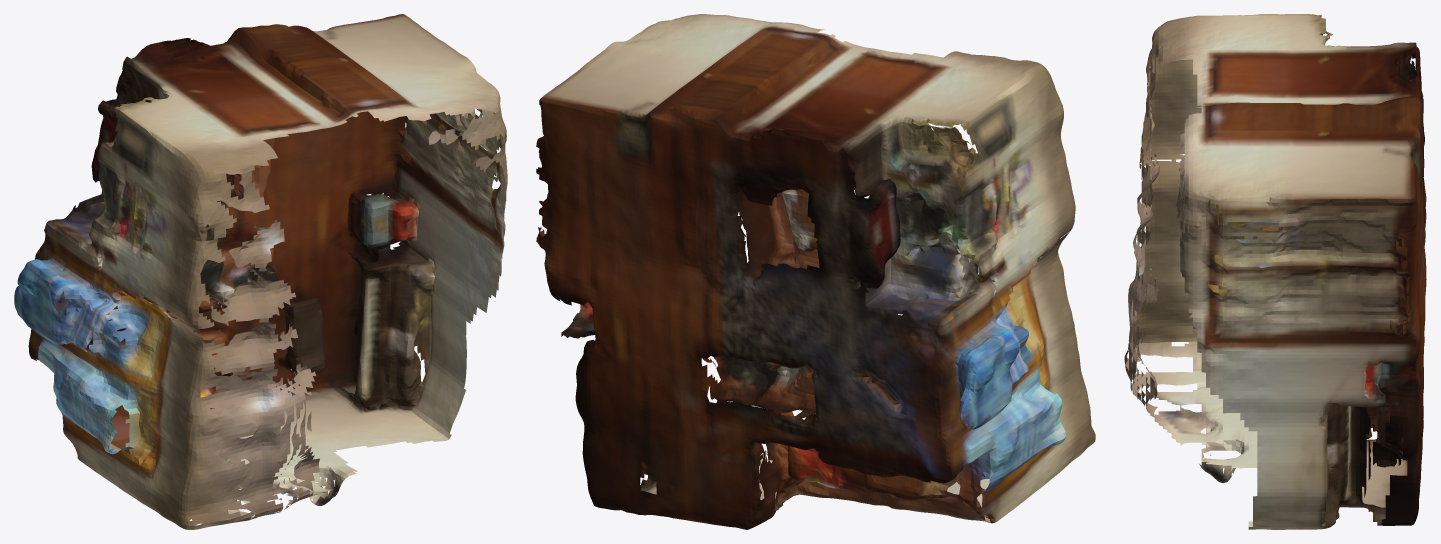
The model's file is result.obj.
3 views of the same model, side by side, from view 1: azimuth 30°, elevation 25°; view 2: azimuth 150°, elevation 25°; view 3: azimuth 270°, elevation 25° (orthographic). The views are drawn at different scales.
Size of the model in its own units: 4.27 by 4.13 by 2.82.
